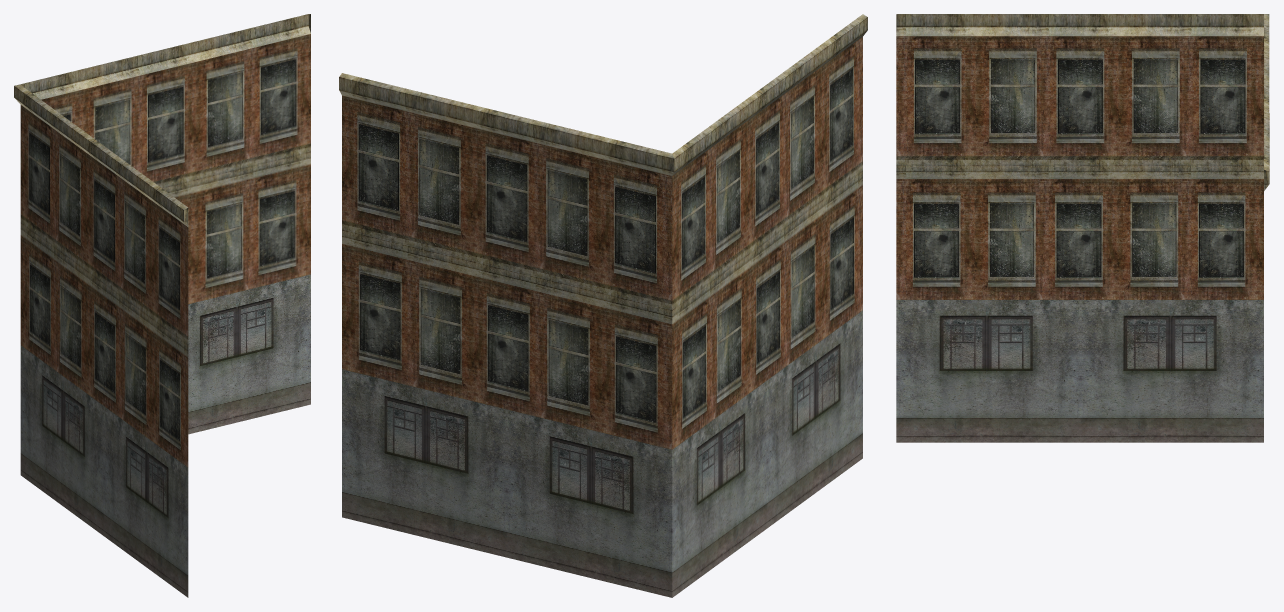
File: Blocks_House_07.fbx
3 renders of one model, left to right at view 1: azimuth 30°, elevation 25°; view 2: azimuth 150°, elevation 25°; view 3: azimuth 270°, elevation 25°, orthographic. The views are drawn at different scales.
Parts seen in each view (by area): view 1: Blocks_House_07_C, Blocks_House_07_B, Blocks_House_07_A; view 2: Blocks_House_07_C, Blocks_House_07_A, Blocks_House_07_B; view 3: Blocks_House_07_C, Blocks_House_07_A, Blocks_House_07_B.
Part boxes in pixels (x1=…): Blocks_House_07_C: x1=14, y1=14, x2=310, y2=337; Blocks_House_07_B: x1=20, y1=144, x2=310, y2=467; Blocks_House_07_A: x1=20, y1=274, x2=310, y2=597; Blocks_House_07_C: x1=339, y1=14, x2=867, y2=301; Blocks_House_07_A: x1=342, y1=310, x2=862, y2=597; Blocks_House_07_B: x1=342, y1=162, x2=862, y2=449; Blocks_House_07_C: x1=896, y1=14, x2=1269, y2=190; Blocks_House_07_A: x1=896, y1=300, x2=1263, y2=442; Blocks_House_07_B: x1=896, y1=157, x2=1263, y2=299.
Bounding box in the file's own units: 710 × 900 × 710.
